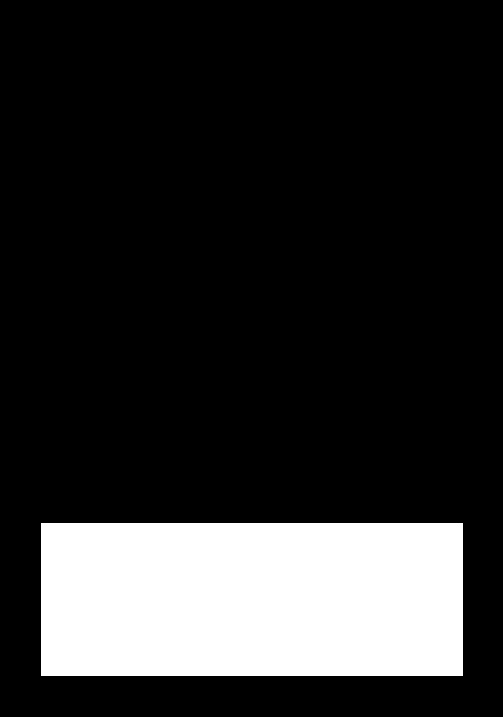table: (41, 523, 462, 675)
